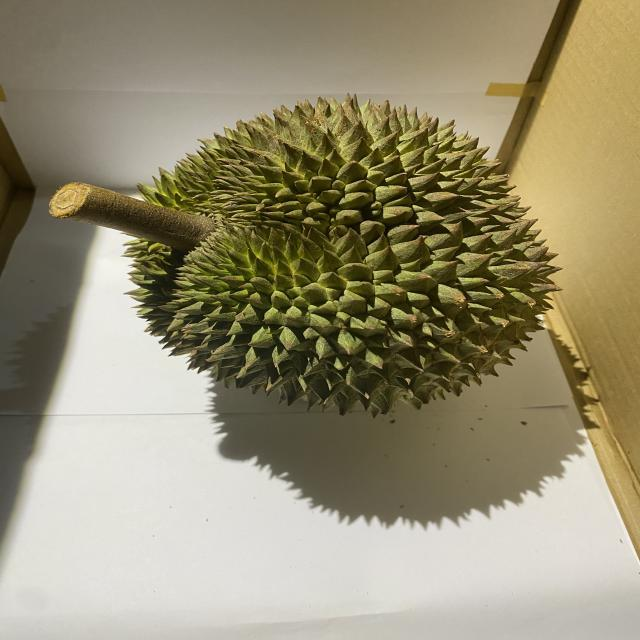immature: (121, 92, 563, 414)
